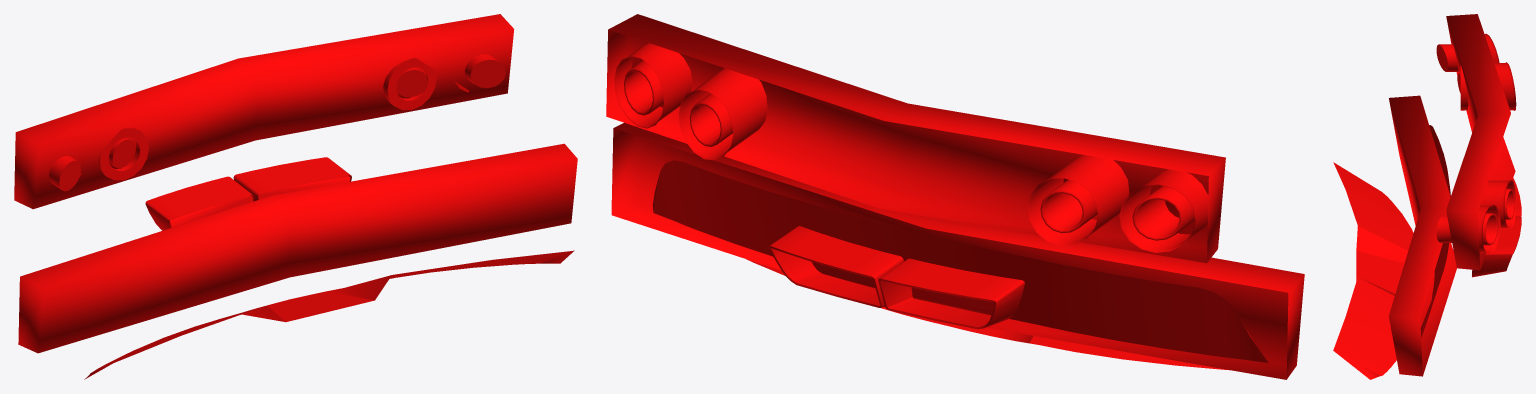
File: Veyron_BB02_Trim.fbx
The picture shows the model from 3 angles, left to right: view 1: azimuth 30°, elevation 25°; view 2: azimuth 150°, elevation 25°; view 3: azimuth 270°, elevation 25°; orthographic projection. The views are drawn at different scales.
Parts seen in each view (by area): view 1: Veyron_BB02_Trim; view 2: Veyron_BB02_Trim; view 3: Veyron_BB02_Trim.
Part boxes in pixels (x1,y1,x2,y2): Veyron_BB02_Trim: [14, 14, 577, 379]; Veyron_BB02_Trim: [606, 14, 1304, 379]; Veyron_BB02_Trim: [1333, 14, 1521, 379].
Size of the model in its own units: 141 by 50.52 by 50.55.
